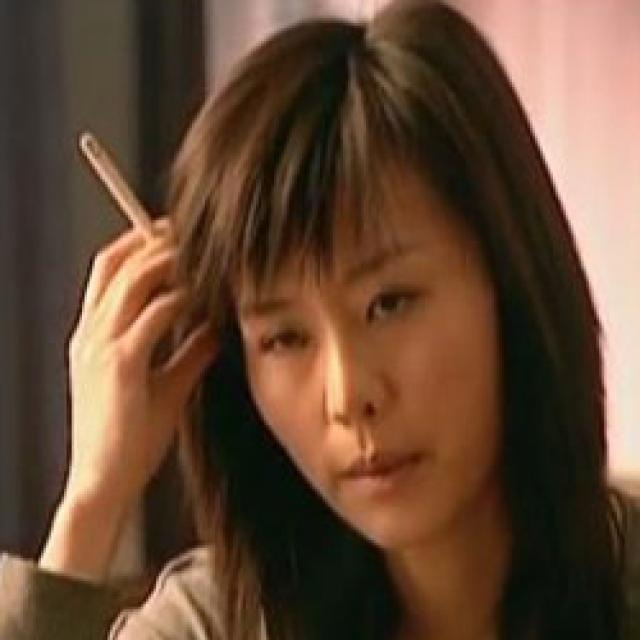Smooking: (76, 123, 170, 239)
